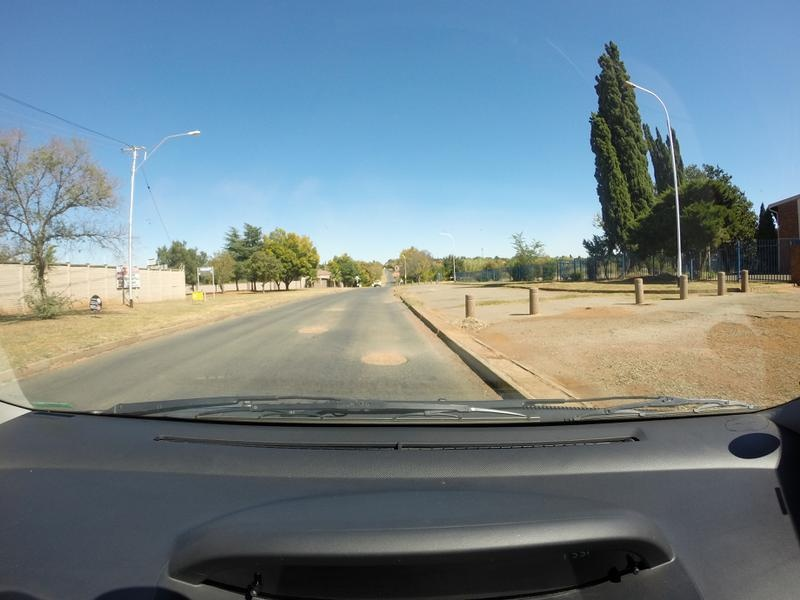pothole: (326, 344, 415, 382), (287, 318, 327, 337)
